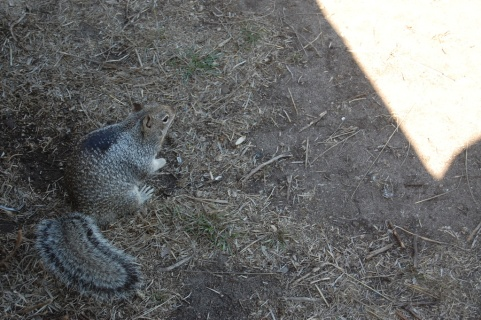Squirrel: (35, 100, 179, 297)
